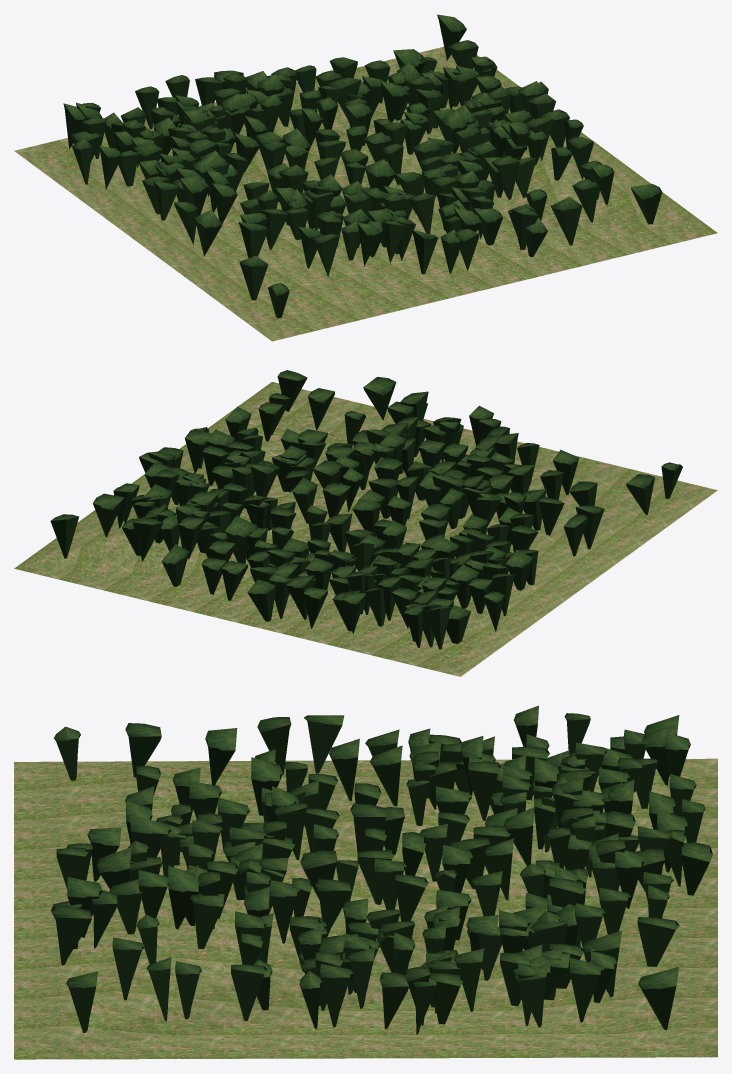
File: Forest.obj
3 renders of one model, top to bottom at view 1: azimuth 30°, elevation 25°; view 2: azimuth 150°, elevation 25°; view 3: azimuth 270°, elevation 25°, orthographic. The views are drawn at different scales.
Visible parts, largest first — view 1: Cube.203_Cube.654, Plane.001_Plane.000; view 2: Cube.203_Cube.654, Plane.001_Plane.000; view 3: Cube.203_Cube.654, Plane.001_Plane.000.
Part boxes in pixels (left/top/right/bottom): Cube.203_Cube.654: left=63, top=14, right=662, bottom=318; Plane.001_Plane.000: left=14, top=46, right=717, bottom=341; Cube.203_Cube.654: left=50, top=370, right=682, bottom=649; Plane.001_Plane.000: left=14, top=382, right=717, bottom=676; Cube.203_Cube.654: left=51, top=705, right=712, bottom=1034; Plane.001_Plane.000: left=14, top=758, right=717, bottom=1059.
Bounding box in the file's own units: 2 × 0.2535 × 2.
